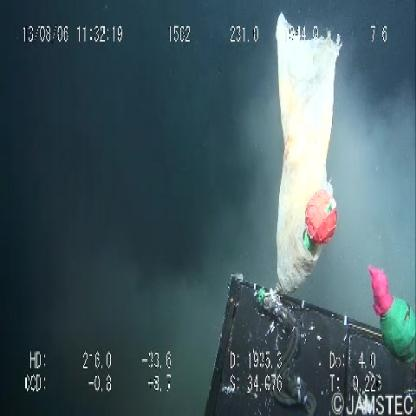Rov: (197, 262, 416, 416)
Rác: (269, 11, 349, 293)
